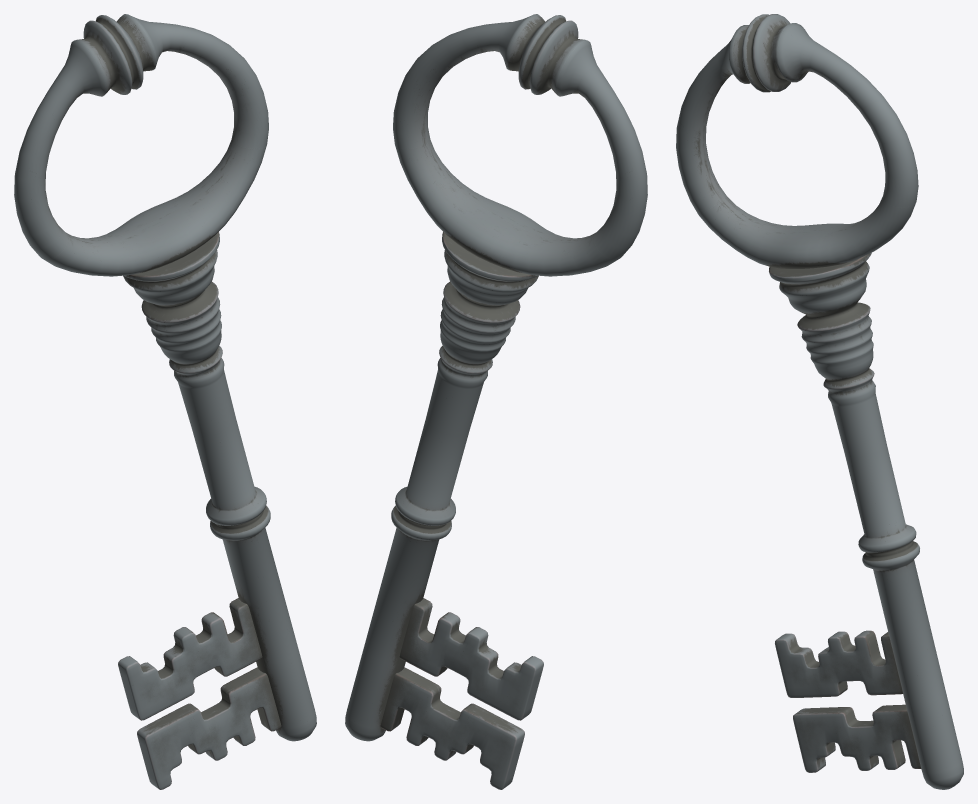
File: silver_key.glb
The picture shows the model from 3 angles, left to right: view 1: azimuth 30°, elevation 25°; view 2: azimuth 150°, elevation 25°; view 3: azimuth 330°, elevation 25°; orthographic projection. The views are drawn at different scales.
Visible parts, largest first — view 1: Object_6; view 2: Object_6; view 3: Object_6.
Part boxes in pixels (bbox=[...]): Object_6: bbox=[14, 14, 316, 789]; Object_6: bbox=[345, 14, 647, 789]; Object_6: bbox=[676, 14, 963, 789].
Bounding box in the file's own units: 0.3939 × 0.9853 × 0.1267.
1 material, 1 textured.
